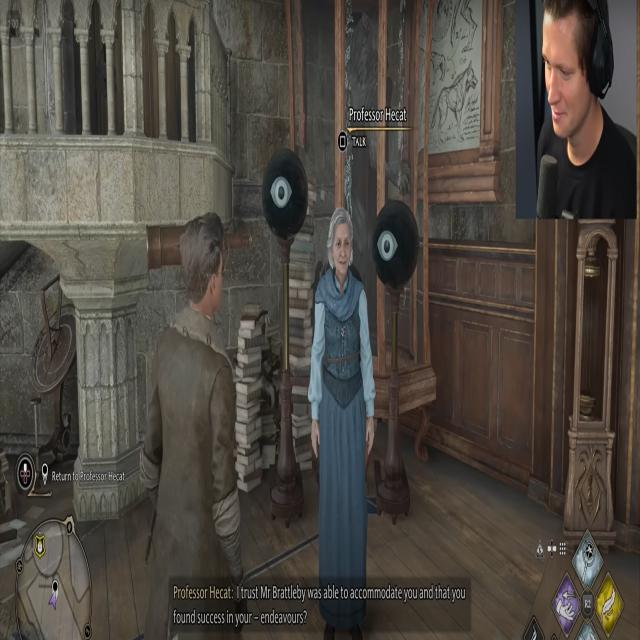compass: (52, 579, 59, 605), (42, 462, 48, 487)
